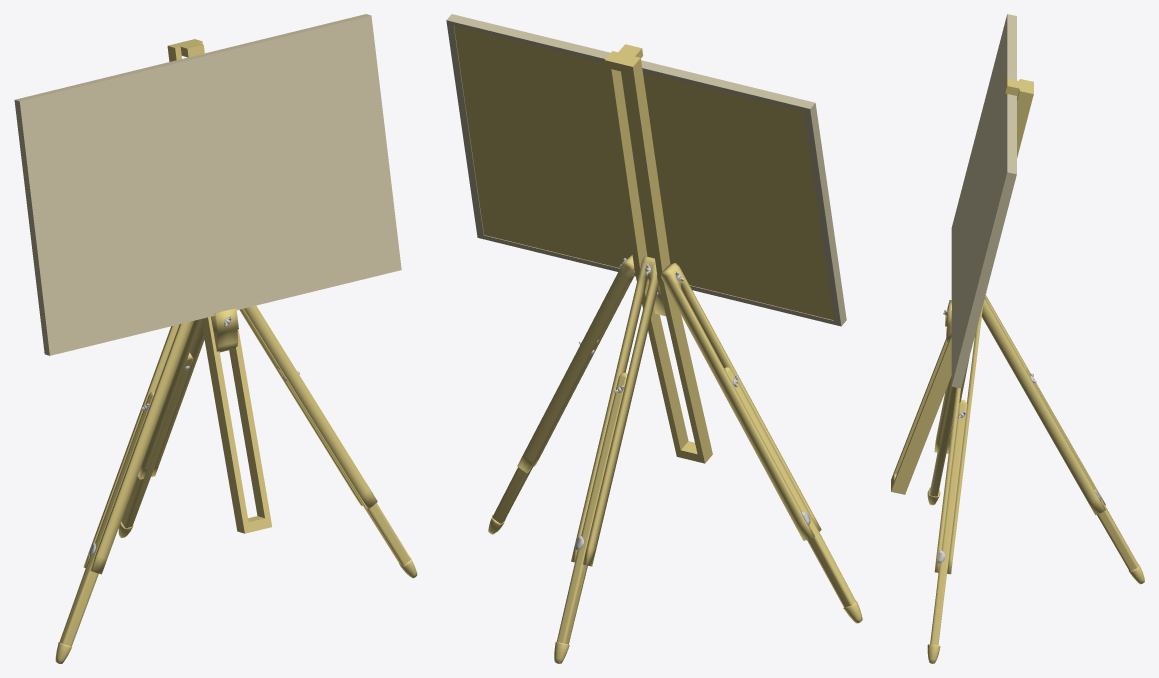
File: Staffelei.fbx
3 views of the same model, side by side, from view 1: azimuth 30°, elevation 25°; view 2: azimuth 150°, elevation 25°; view 3: azimuth 270°, elevation 25° (orthographic). The views are drawn at different scales.
Visible parts, largest first — view 1: Staffelei; view 2: Staffelei; view 3: Staffelei.
Boxes of the visible parts, x1,y1,x2,y2 form: Staffelei: (14,14,417,663); Staffelei: (446,14,862,663); Staffelei: (891,14,1144,663).
Size of the model in its own units: 1032 by 1490 by 683.
